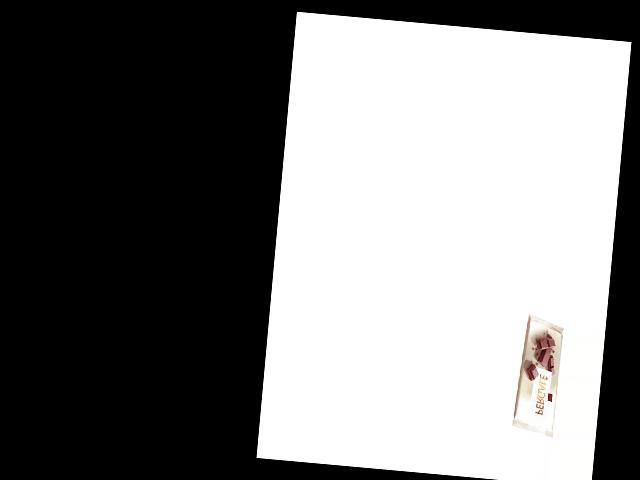chocolate: (512, 311, 564, 438)
